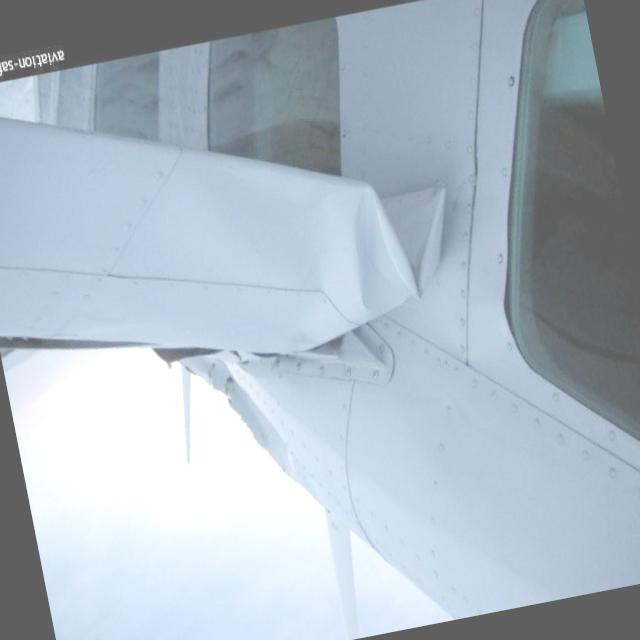dent: (320, 158, 470, 324)
